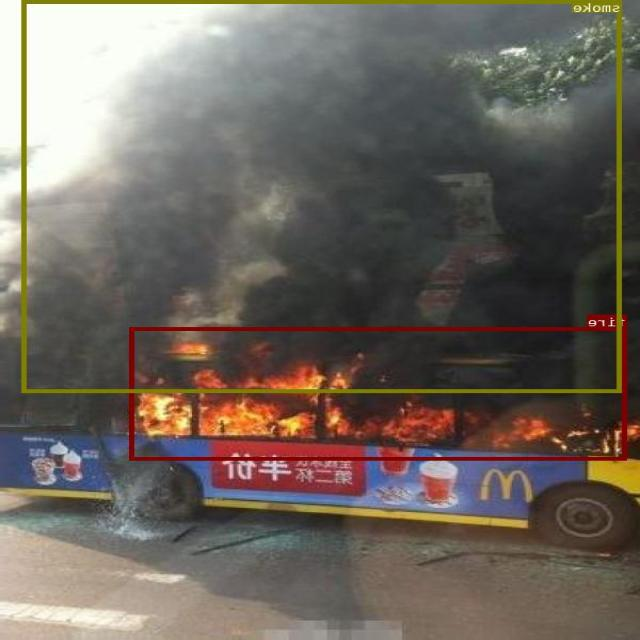fire: (130, 326, 628, 460)
smoke: (22, 0, 622, 392)
